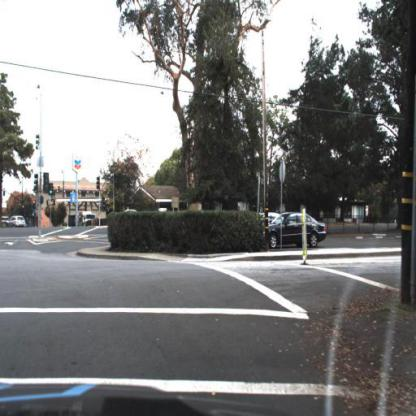car: (265, 210, 329, 252), (251, 206, 287, 233)
